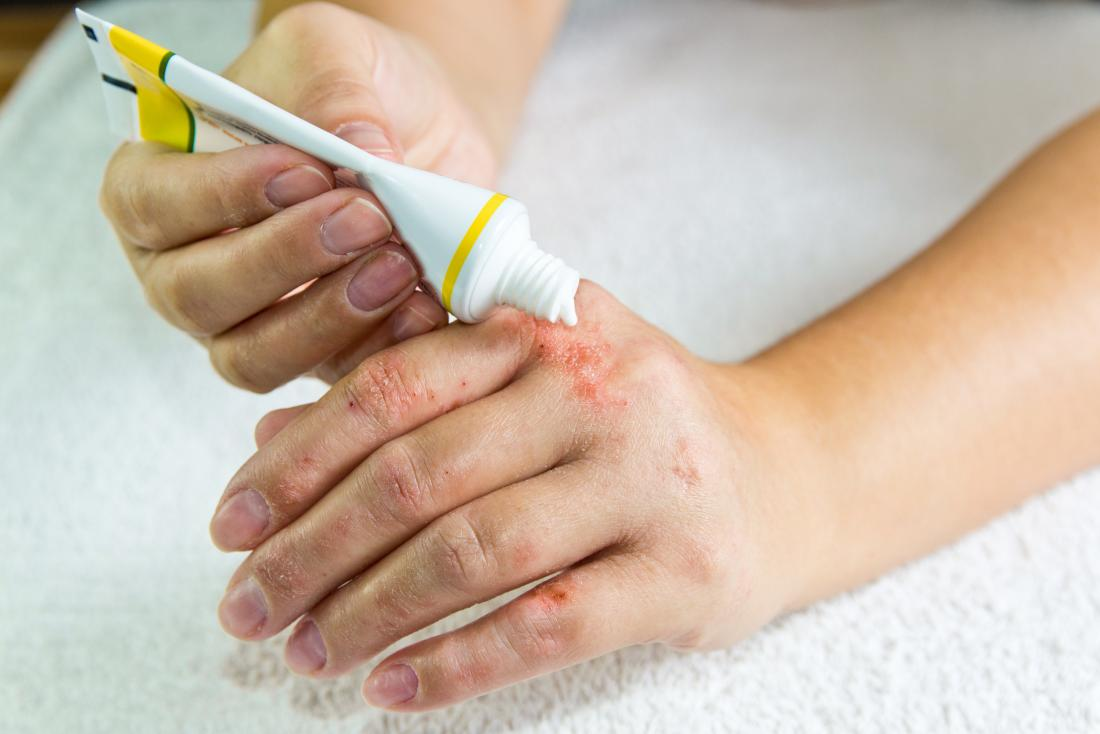Eczema: (465, 294, 667, 458)
